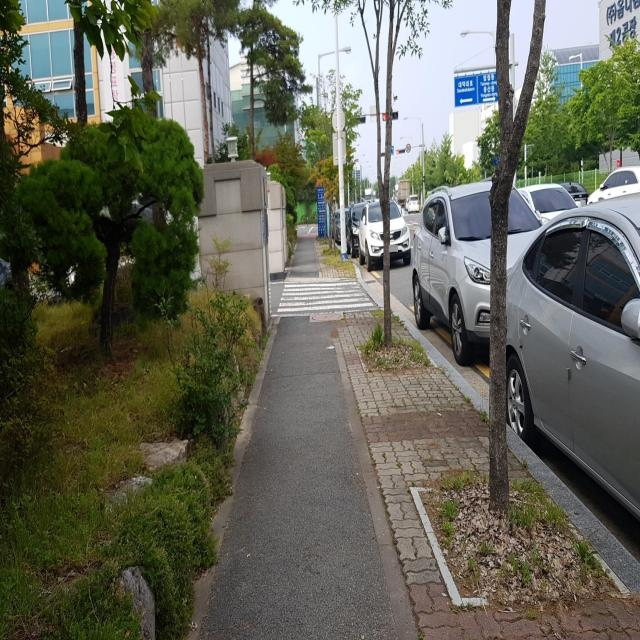횡단보도: (276, 280, 374, 312)
